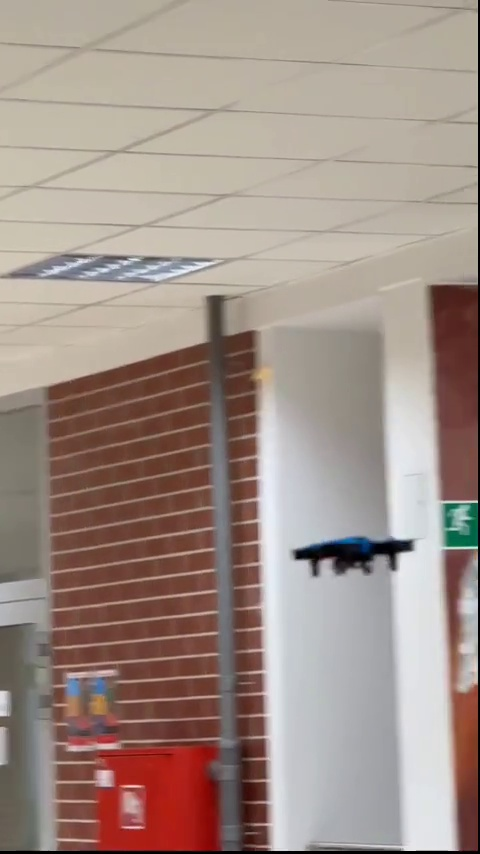drone: (291, 537, 414, 574)
